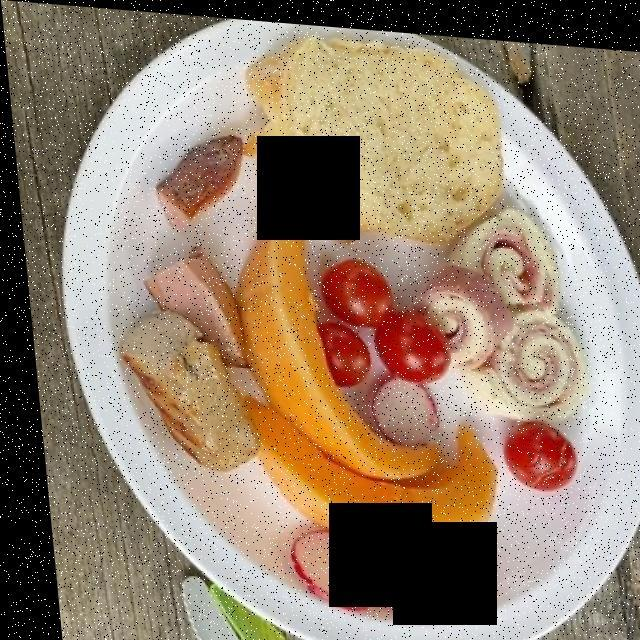bread: (254, 36, 497, 226)
cervelat: (142, 121, 244, 367)
cheese: (431, 198, 579, 419)
ham: (430, 227, 542, 346)
melon: (237, 217, 492, 525)
radish: (292, 358, 427, 603)
sausage: (118, 309, 247, 469)
tomato: (314, 264, 573, 487)
